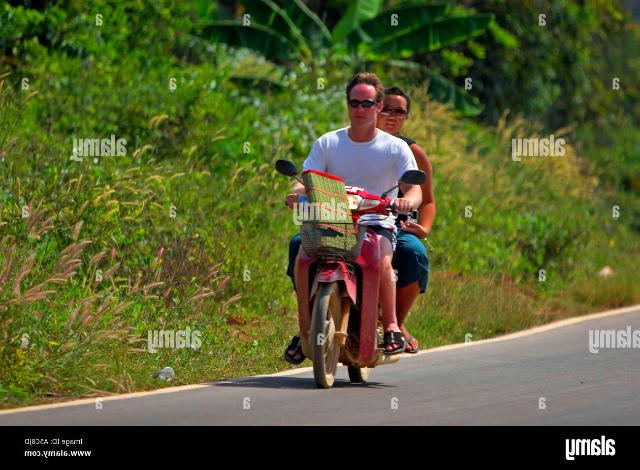motor: (273, 156, 433, 390)
non-helm: (348, 74, 385, 128), (377, 89, 411, 136)
